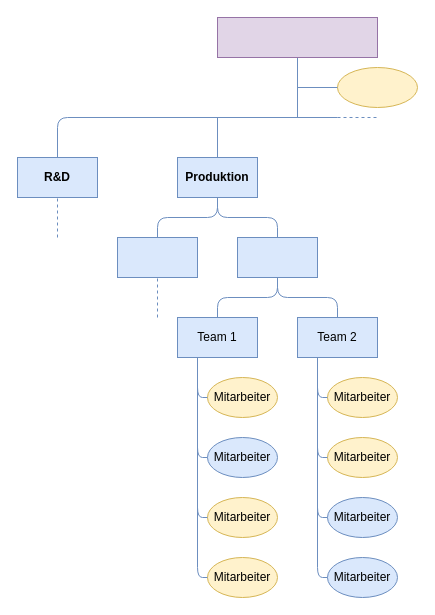
This 435x615 diagram has some shape labels left out. The centre of each missing label's shape, as x and y in pixels:
Abteilung A: the point at 157,257
Abteilung B: the point at 277,257
Projektstab: the point at 377,87
Unternehmensleitung: the point at 297,37
